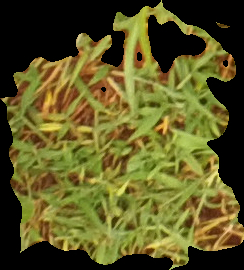grass: (1, 1, 243, 268)
